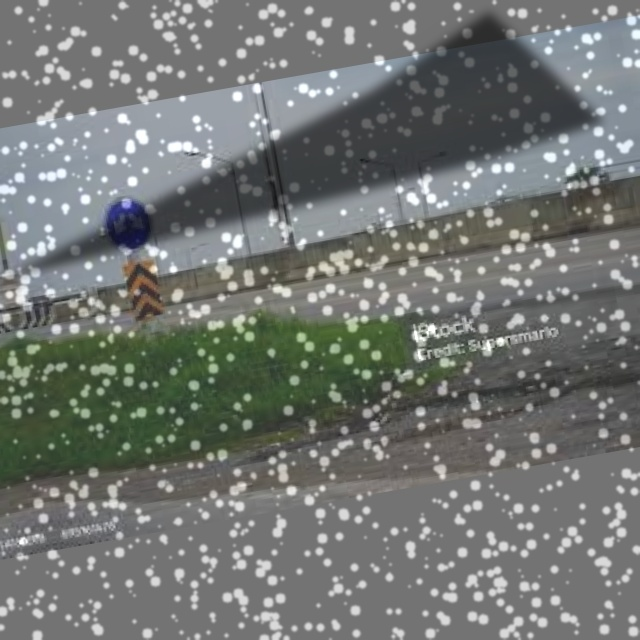Pass_Either_Side: (102, 191, 159, 253)
